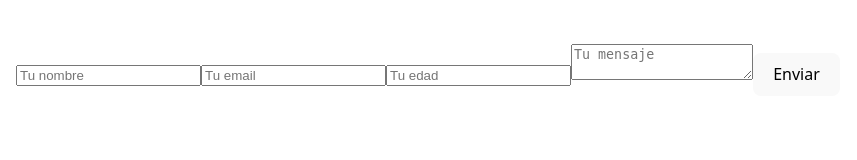
Test: Form component con Enzyme (shallow) › muestra mensaje después del submit con nombre
The width and height of the screenshot is (857, 160).
# Simular escribir en inputs completos
Type "Daniel" into the field with placeholder "Tu nombre".
click(108, 76); type("Daniel")  # box 16,65 -> 201,86
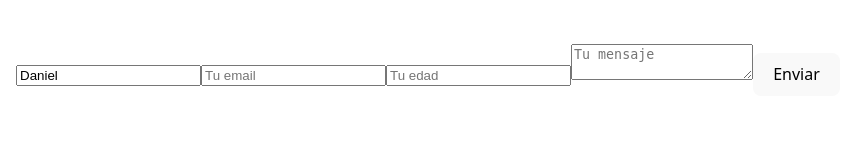
Type "dani@example.com" into the field with placeholder "Tu email".
click(294, 76); type("dani@example.com")  # box 201,65 -> 386,86
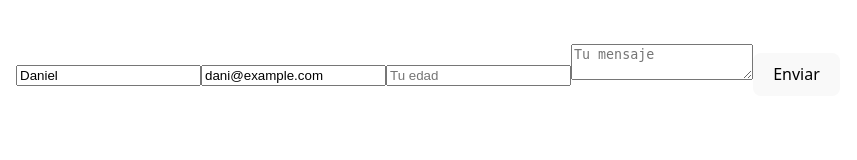
Type "25" into the number field with placeholder "Tu edad".
click(478, 76); type("25")  # box 386,65 -> 571,86
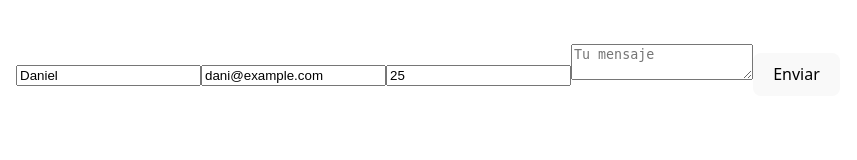
Type "Soy un capo" into the text box with placeholder "Tu mensaje".
click(662, 62); type("Soy un capo")  # box 571,44 -> 753,80
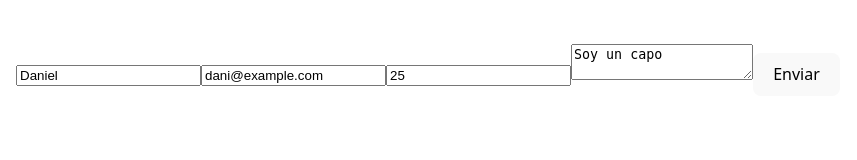
Submit the form, box 16,44 -> 840,96
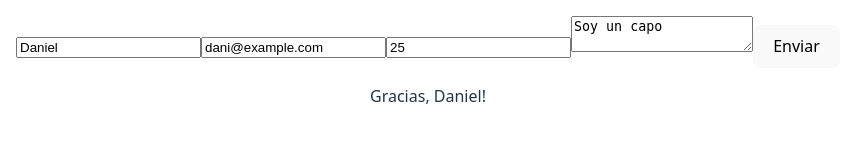
expect the form shows "Gracias, Daniel!": met, box 16,16 -> 840,108
